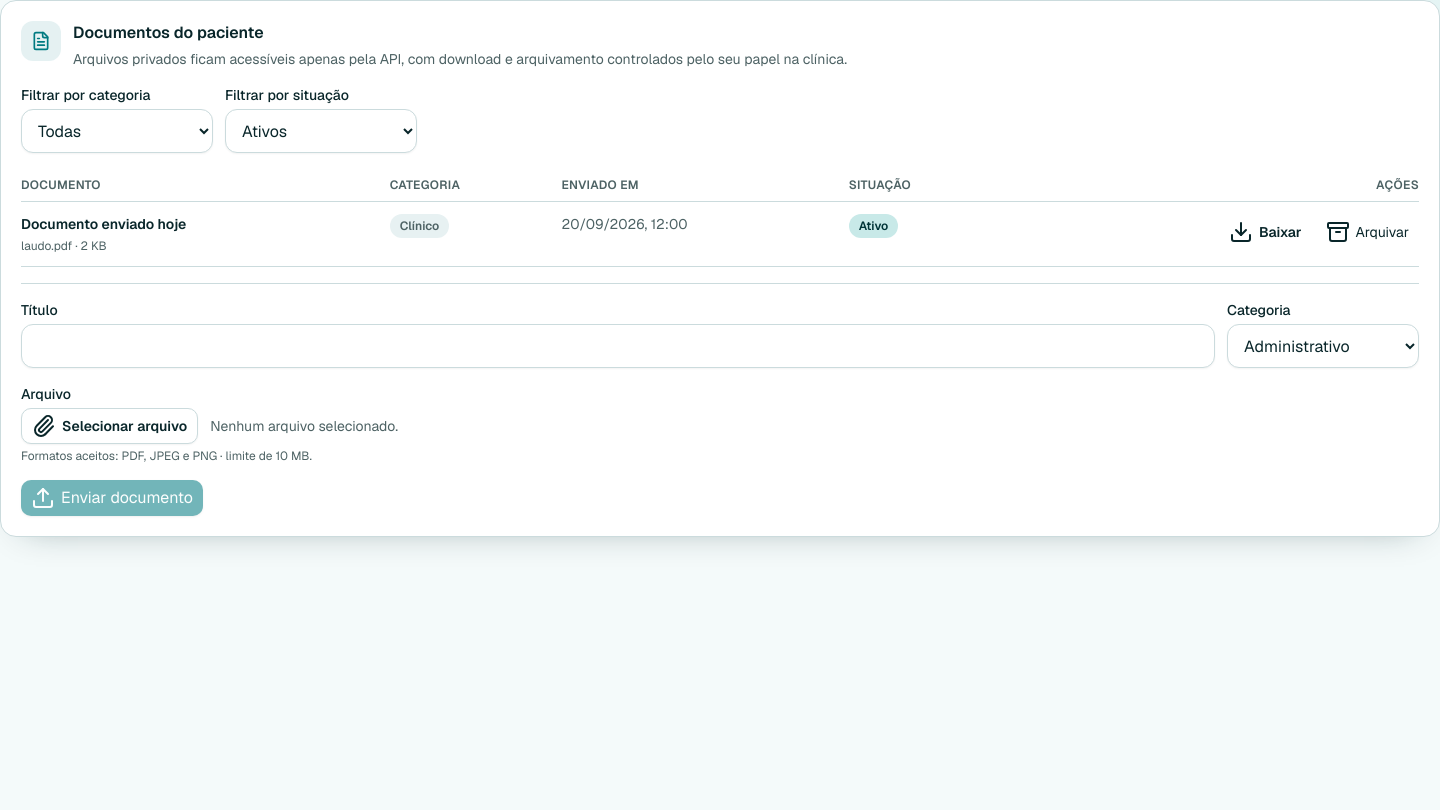
Test: DocumentsPanel › restores a document archived before the page load
Select "Arquivados" in the dropdown labelled "Filtrar por situação" at coordinates (321, 131), box [225, 109, 417, 153]
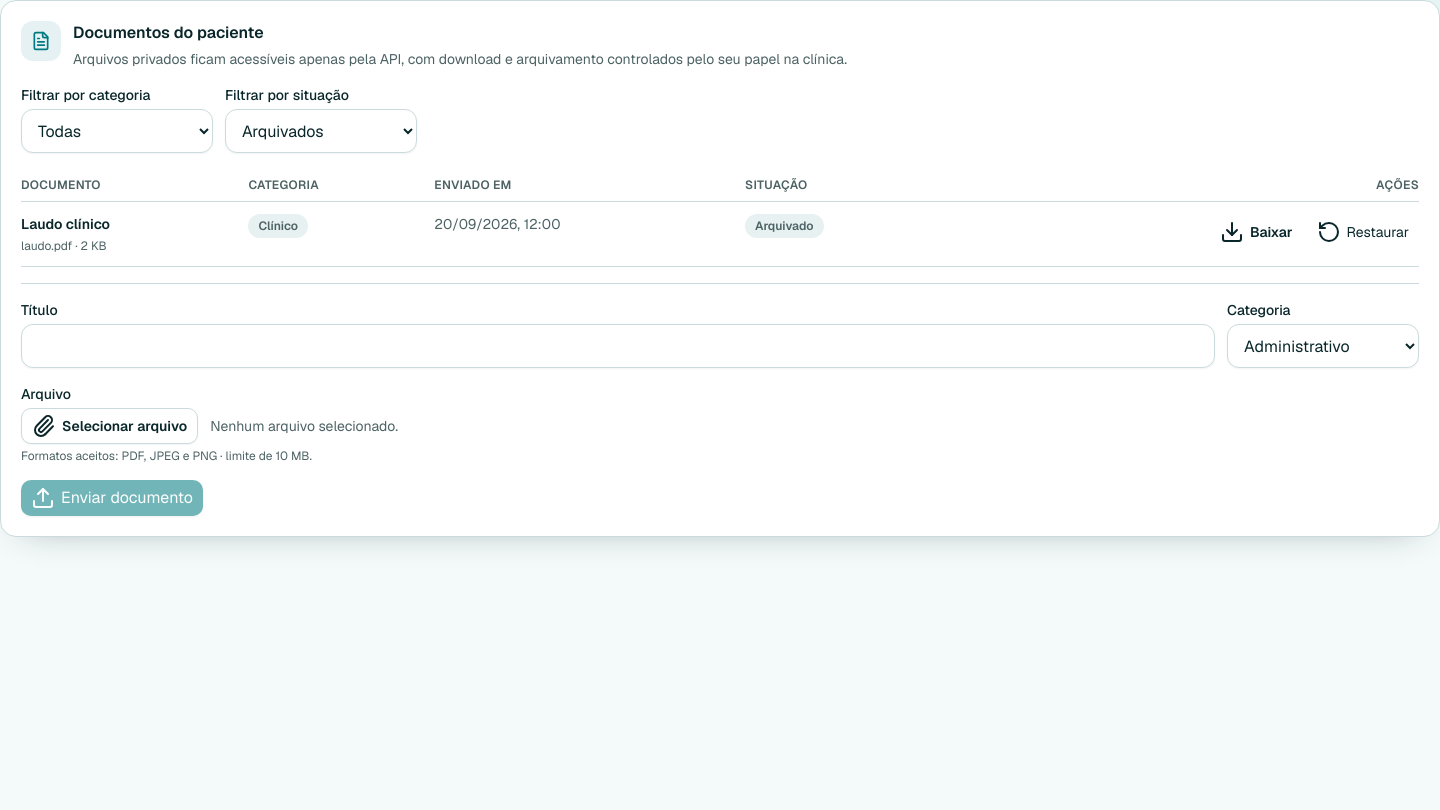
Result: the text "Laudo clínico" is shown at [21, 215, 110, 233]
Click the button "Restaurar" at coordinates (1363, 232), box [1306, 214, 1419, 250]
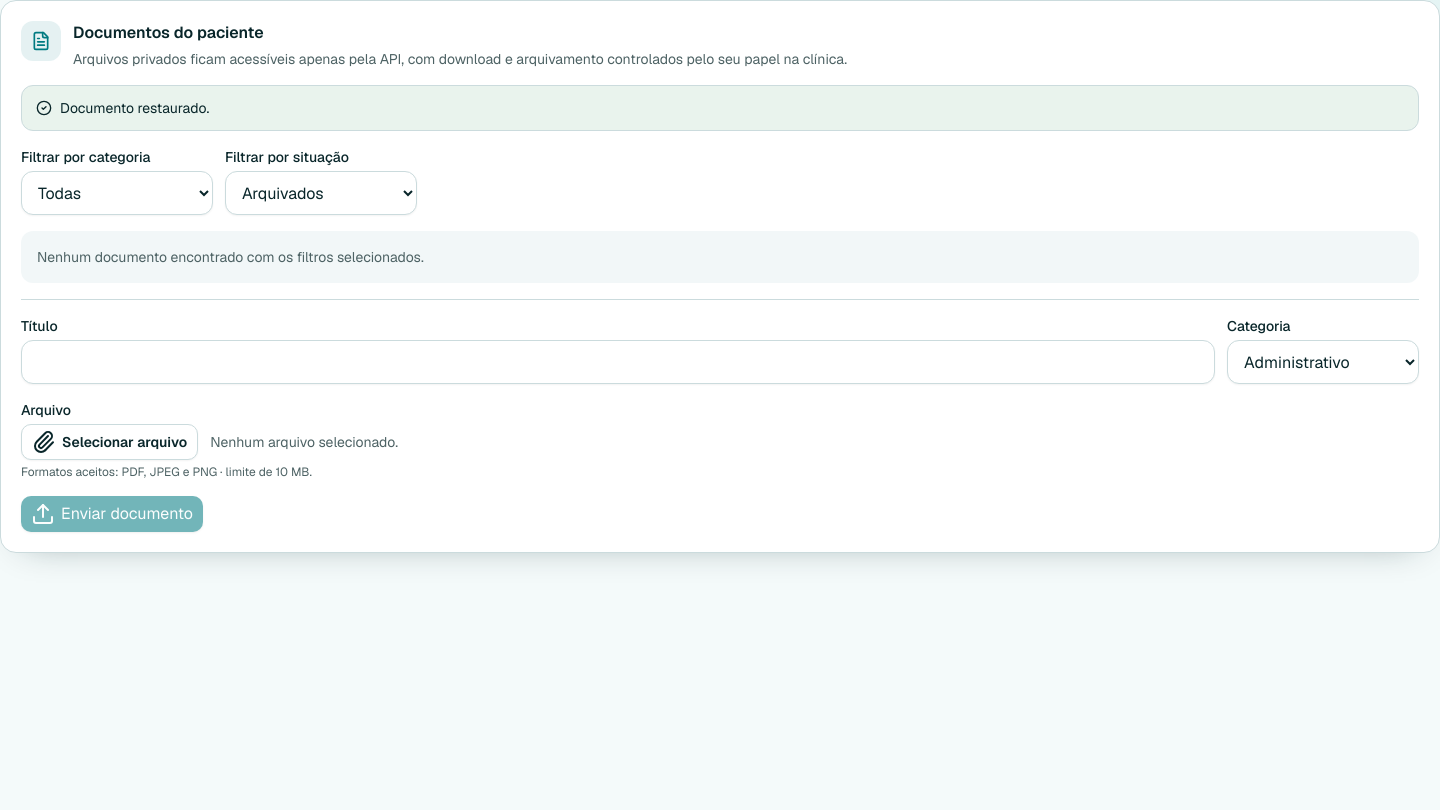
Result: the text "Documento restaurado." is shown at [60, 98, 209, 118]
Select "Ativos" in the dropdown labelled "Filtrar por situação" at coordinates (321, 193), box [225, 171, 417, 215]
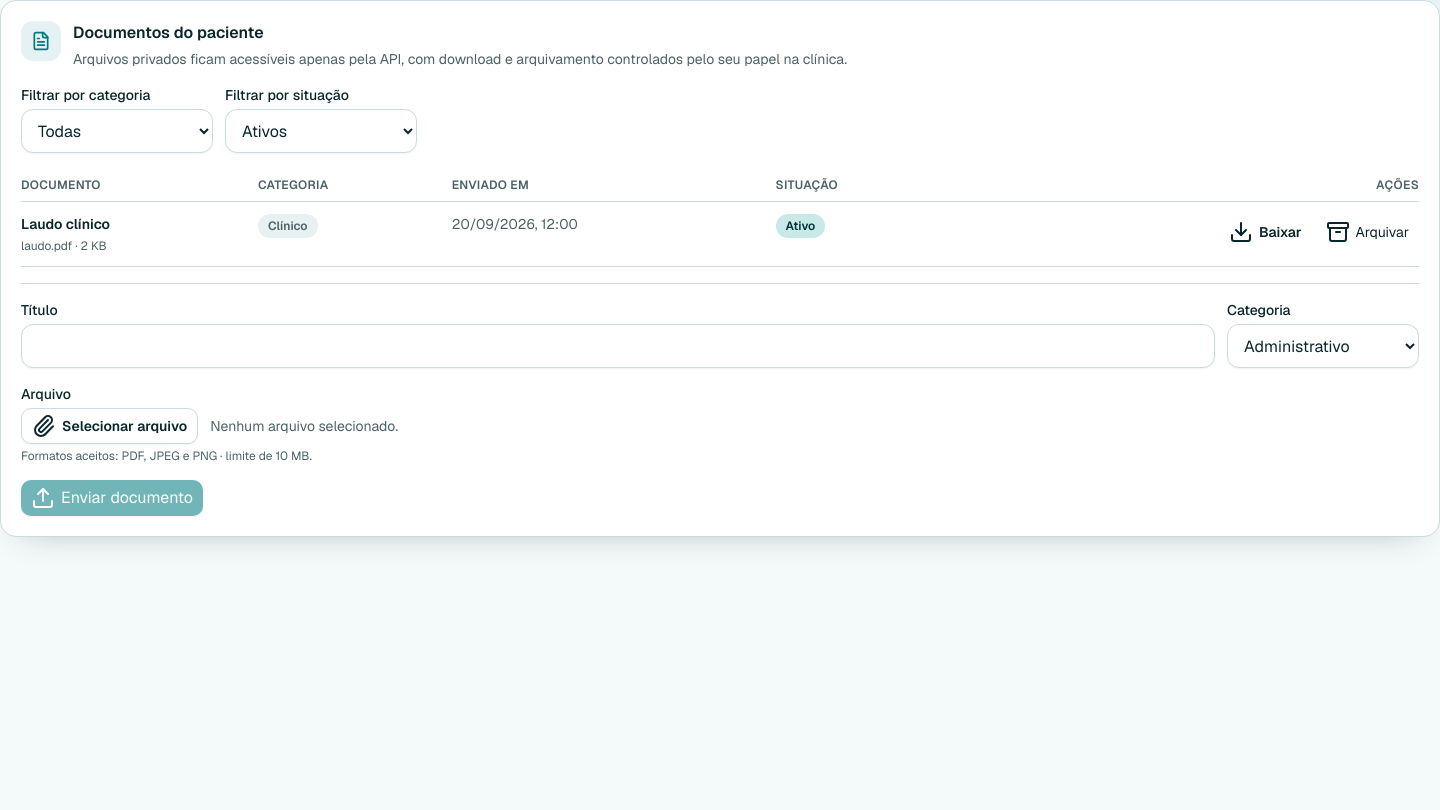
Result: the text "Ativo" is shown at [776, 214, 825, 238]
